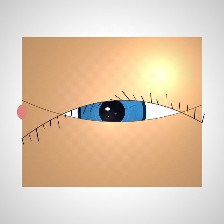pinguecula_lesion: (33, 96, 76, 131)
